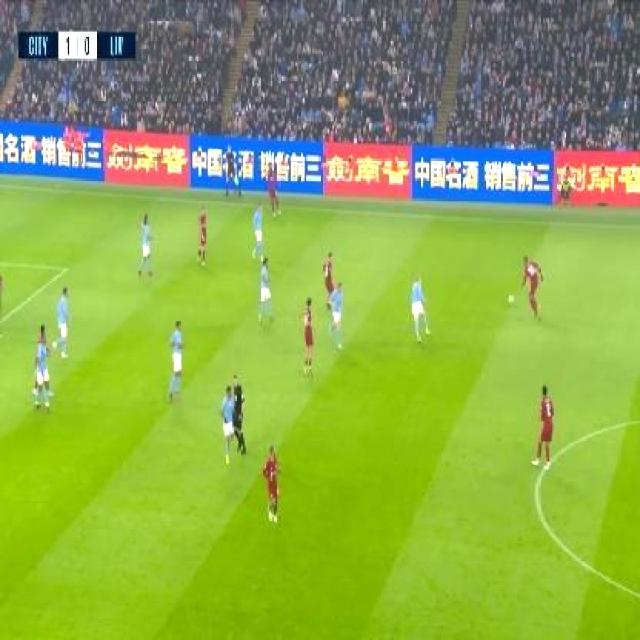bigarea_top_inner: (56, 255, 76, 283)
